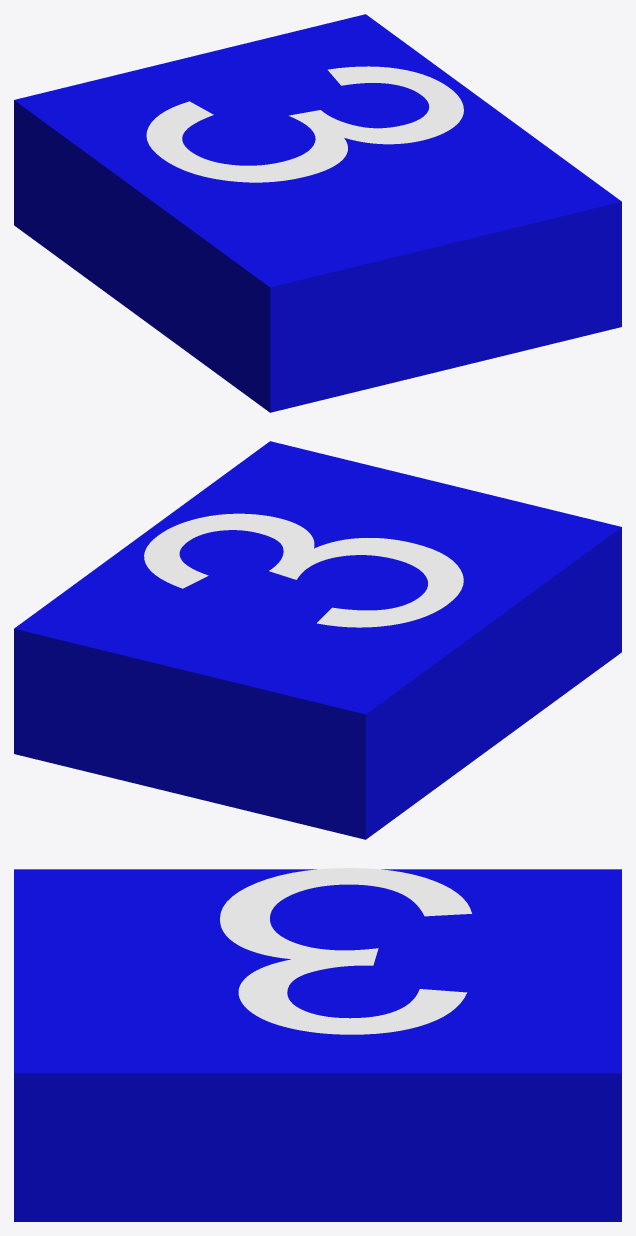
File: number3.FBX
The picture shows the model from 3 angles, top to bottom: view 1: azimuth 30°, elevation 25°; view 2: azimuth 150°, elevation 25°; view 3: azimuth 270°, elevation 25°; orthographic projection. The views are drawn at different scales.
Visible parts, largest first — view 1: Text001; view 2: Text001; view 3: Text001.
Boxes of the visible parts, left/top/right/bottom form: Text001: left=14, top=14, right=621, bottom=412; Text001: left=14, top=441, right=621, bottom=839; Text001: left=14, top=868, right=621, bottom=1221.
Size of the model in its own units: 18.63 by 7.23 by 23.5.
